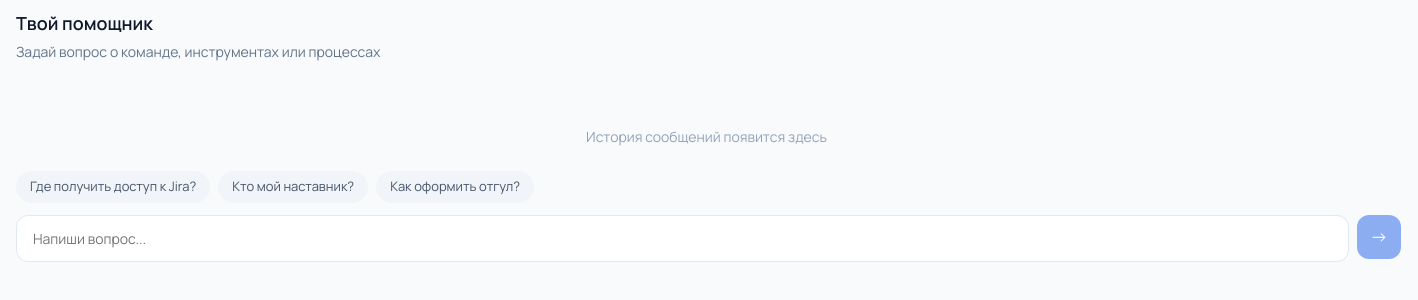
Scenario: ChatPanel › добавляет сообщение пользователя оптимистично
This screenshot has width=1418, height=300.
Step 1. Type "привет" into the field with placeholder "Напиши вопрос..." → point(682, 238), box [16,214,1349,262]
Then press Enter
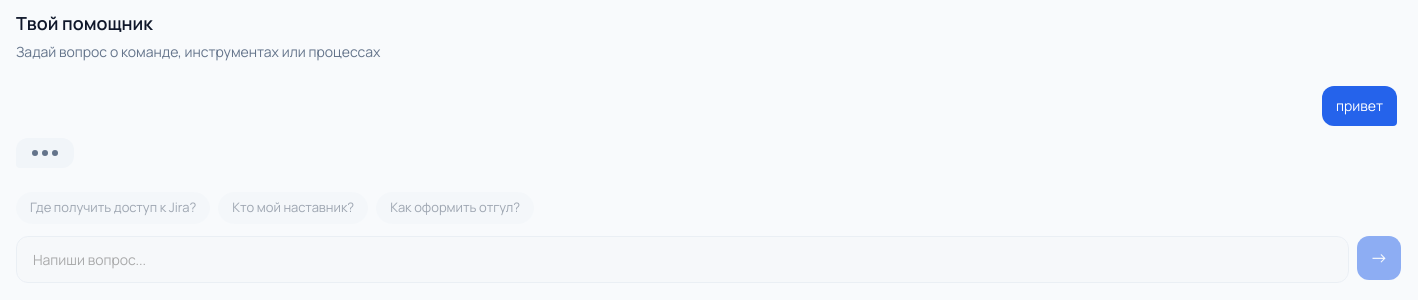
Result: the text "привет" is shown at [1322,86,1397,126]
